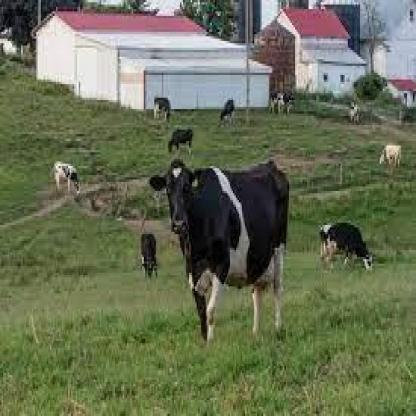cow: (152, 162, 291, 344), (318, 223, 373, 268), (139, 234, 159, 277), (54, 164, 82, 191), (268, 91, 292, 116), (379, 143, 403, 168), (168, 131, 195, 153), (153, 98, 172, 125), (219, 100, 236, 125), (346, 106, 362, 124)
